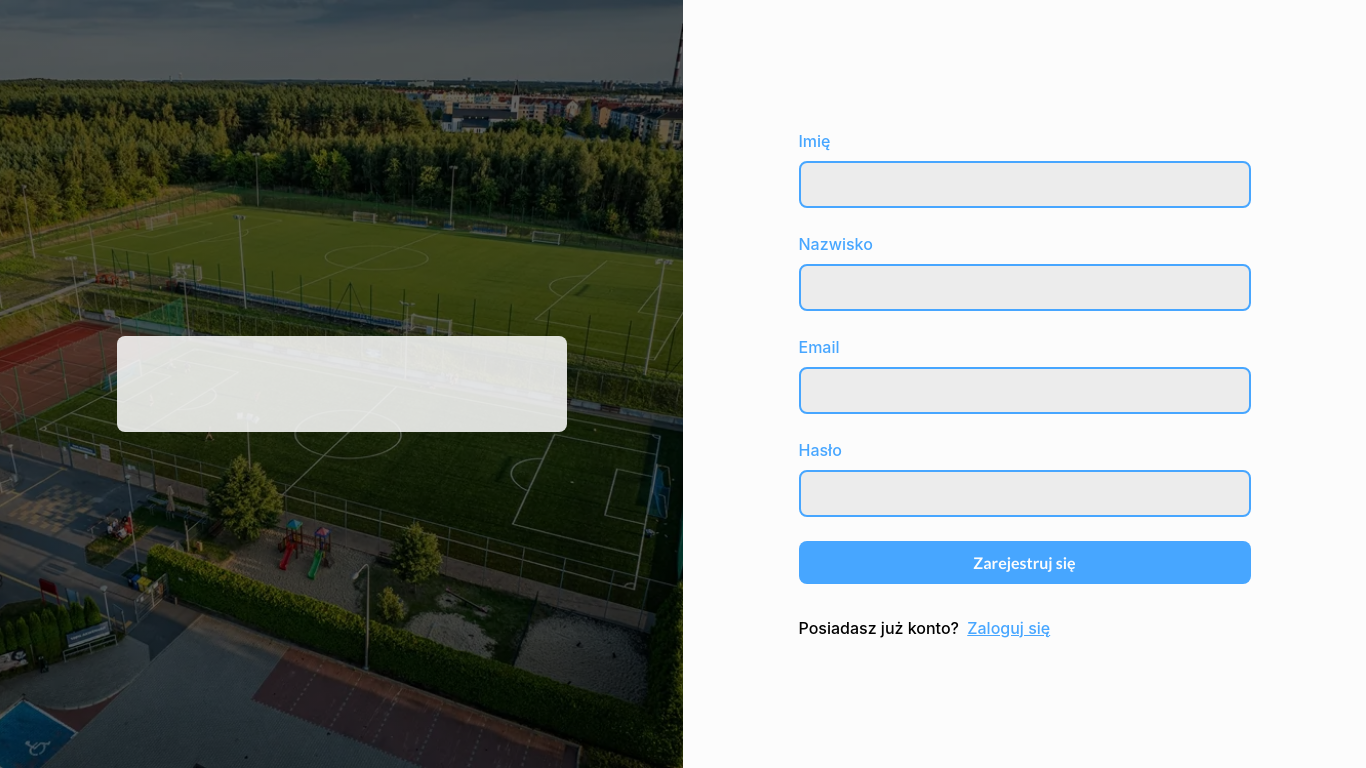
Test: Kluczowe testy aplikacji › 9. Register – wyświetla sukces po poprawnej rejestracji
This screenshot has width=1366, height=768.
Type "Jan" into the field labelled "Imię" at point(1024, 184), box [798,160,1250,208]
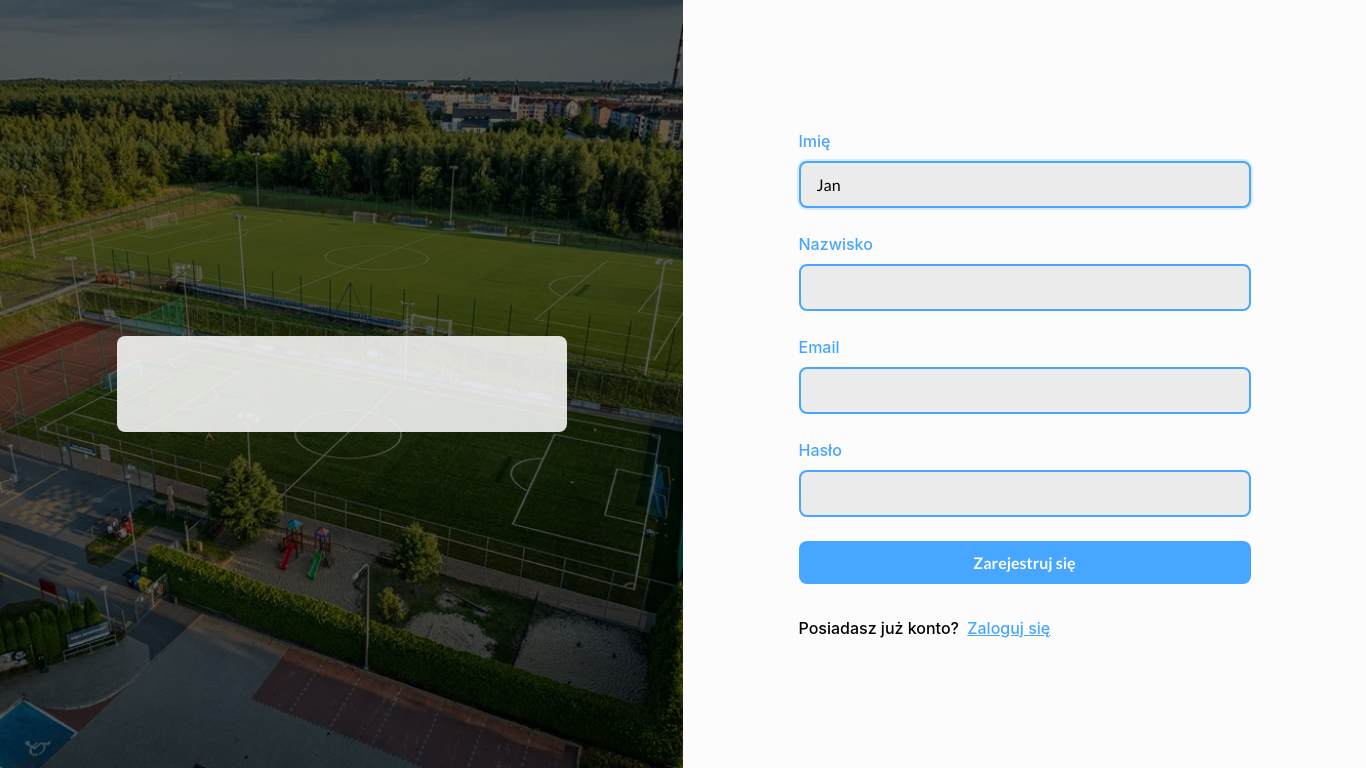
Type "Kowalski" into the field labelled "Nazwisko" at point(1024, 287), box [798,264,1250,310]
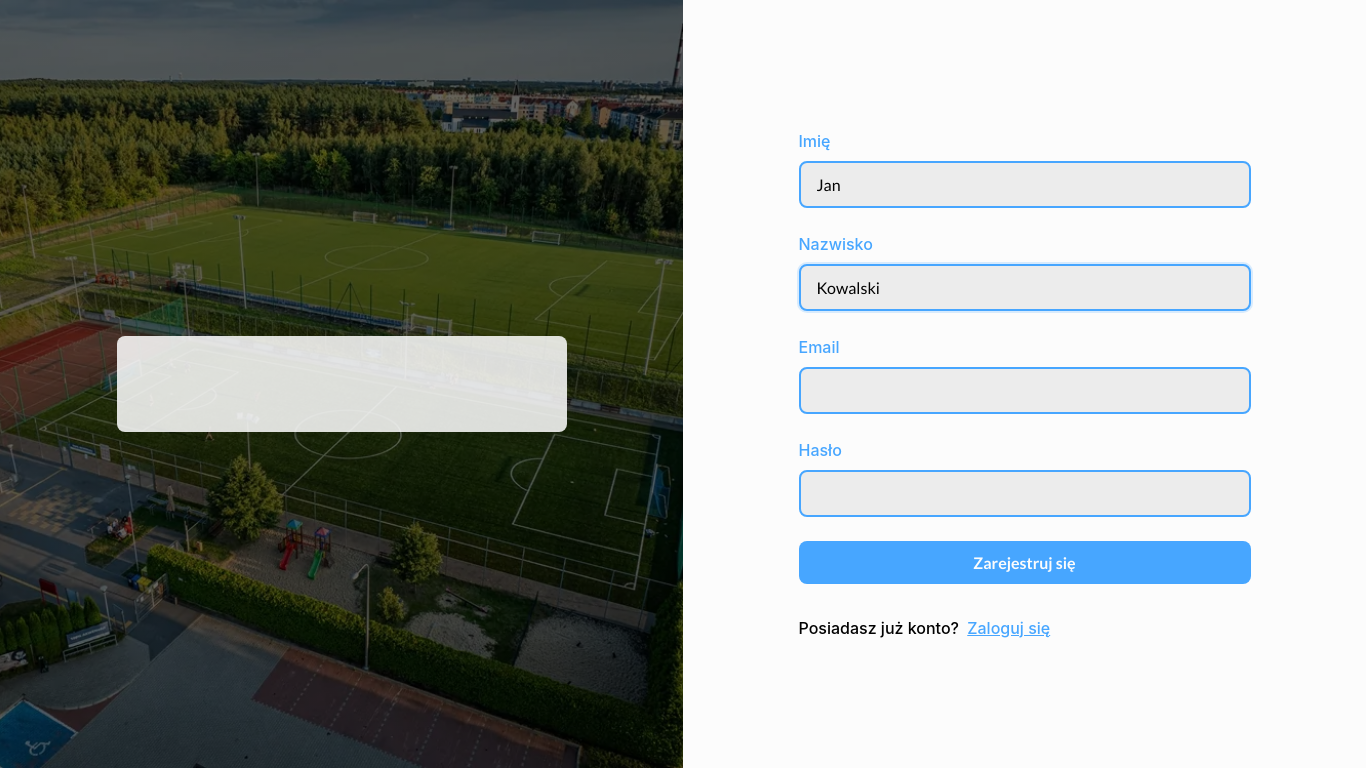
Type "jan@example.com" into the field labelled "Email" at point(1024, 390), box [798,366,1250,414]
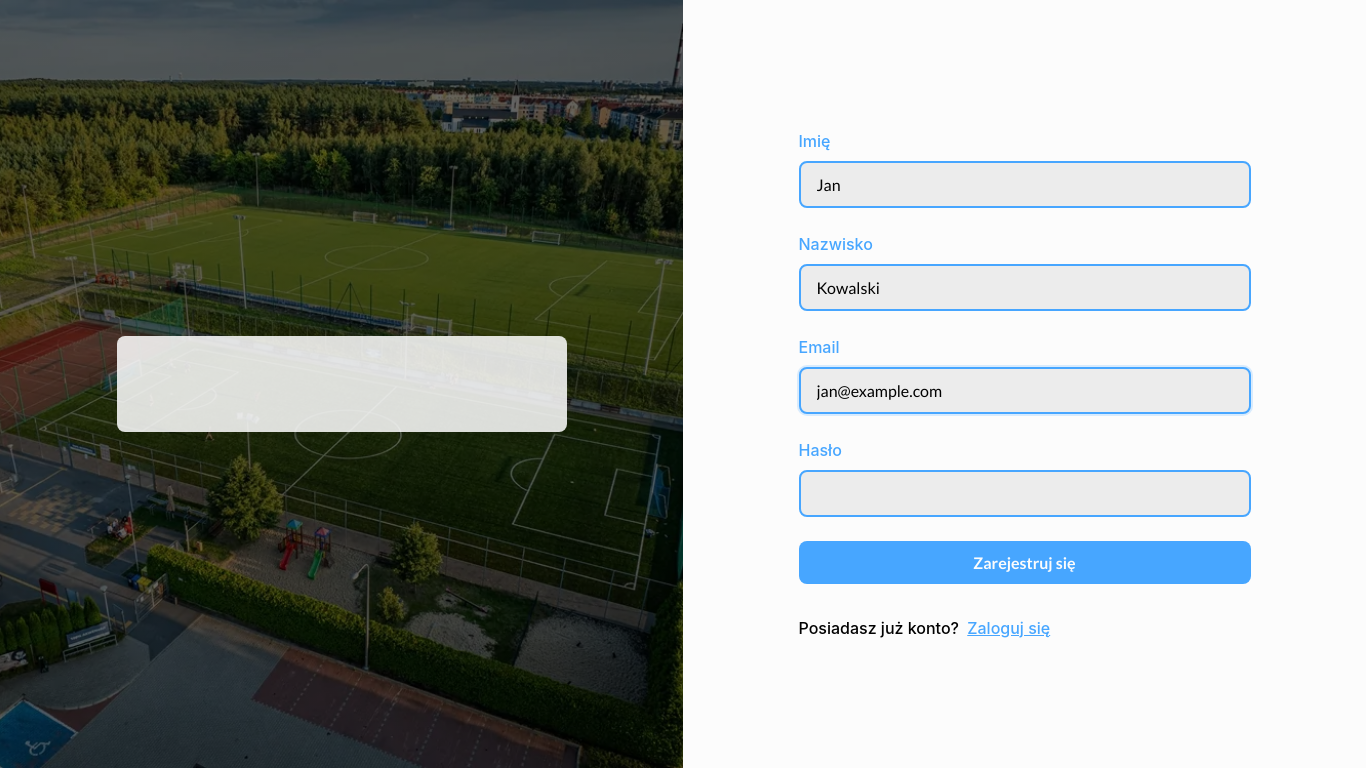
Type "Password1!" into the password field labelled "Hasło" at point(1024, 493), box [798,470,1250,516]
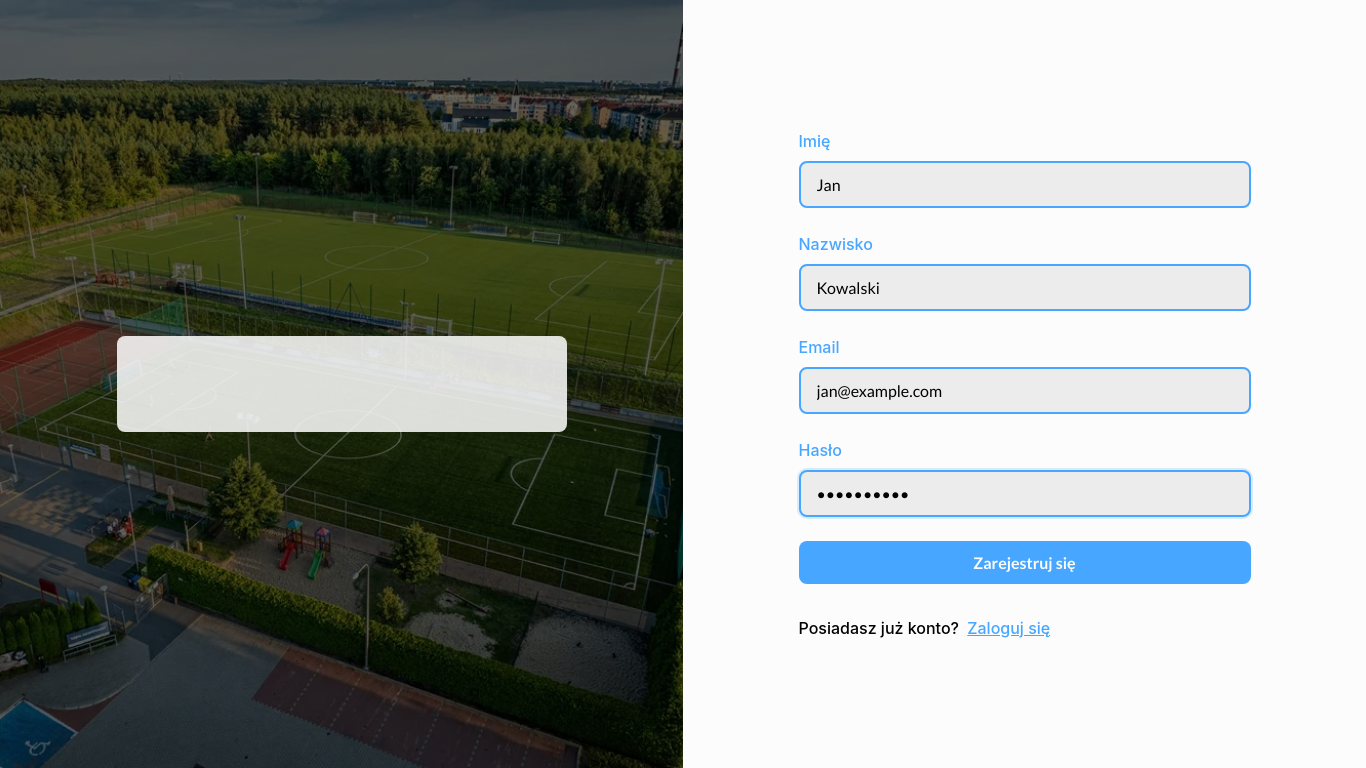
Click the button "Zarejestruj się" at point(1024, 562), box [798,540,1250,584]
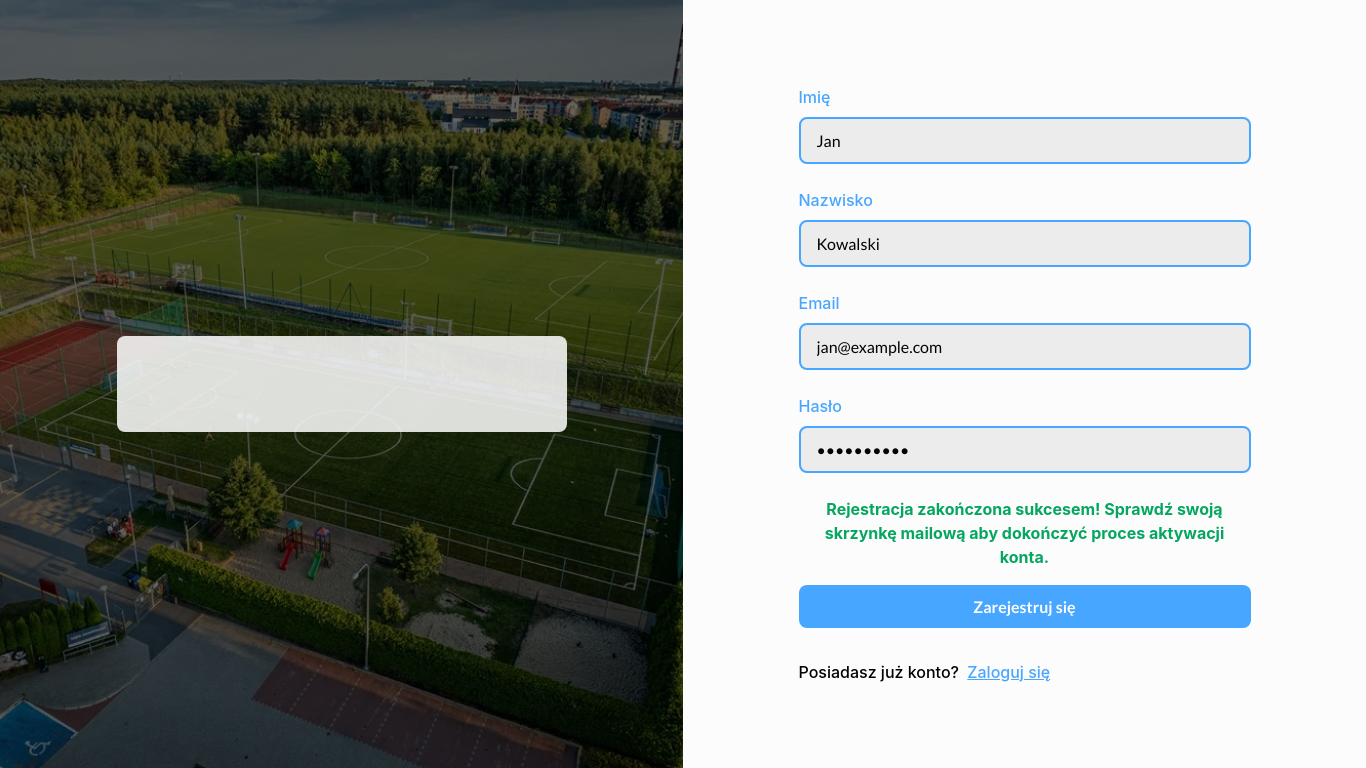
Check: the text "Rejestracja zakończona sukcesem" is shown, box [825,498,1224,566]
